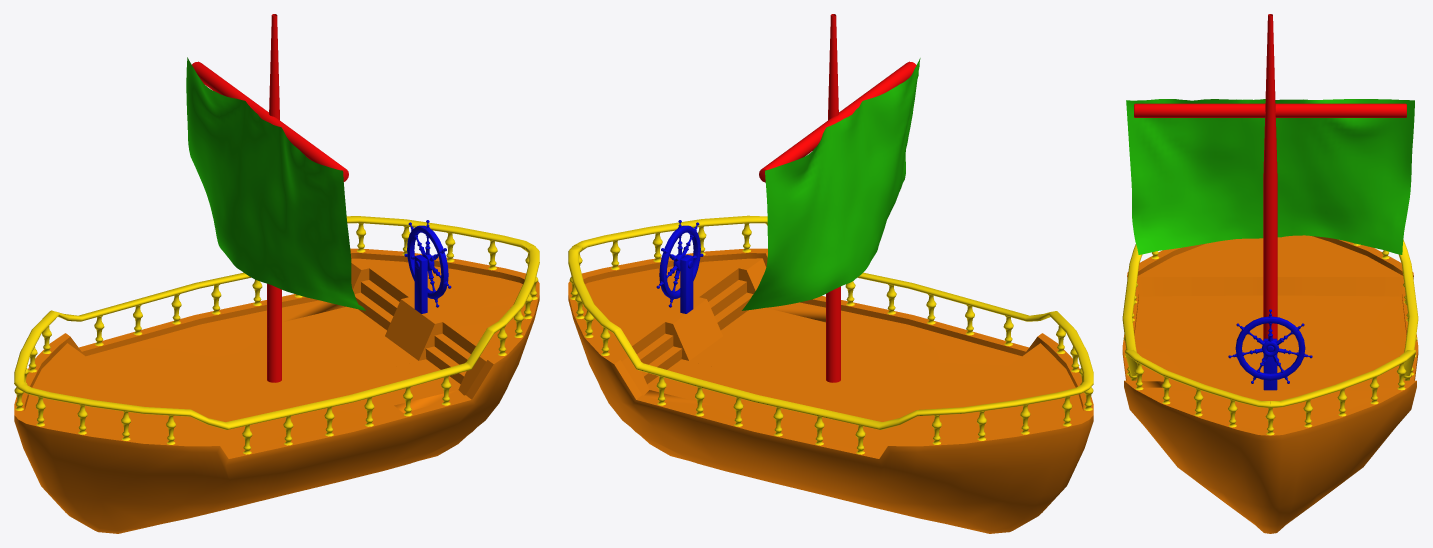
The model's file is Boot.fbx.
The picture shows the model from 3 angles, left to right: view 1: azimuth 30°, elevation 25°; view 2: azimuth 150°, elevation 25°; view 3: azimuth 270°, elevation 25°; orthographic projection. The views are drawn at different scales.
Parts seen in each view (by area): view 1: Boat, Segel, Geländer, Mast, Lenkrad; view 2: Boat, Segel, Geländer, Mast, Lenkrad; view 3: Boat, Segel, Mast, Geländer, Lenkrad.
Boxes of the visible parts, left/top/right/bottom form: Boat: left=14, top=248, right=539, bottom=533; Segel: left=186, top=57, right=365, bottom=310; Geländer: left=14, top=216, right=539, bottom=454; Mast: left=192, top=14, right=348, bottom=382; Lenkrad: left=404, top=220, right=451, bottom=313; Boat: left=568, top=248, right=1093, bottom=533; Segel: left=742, top=58, right=920, bottom=310; Geländer: left=568, top=215, right=1093, bottom=454; Mast: left=759, top=14, right=916, bottom=382; Lenkrad: left=656, top=220, right=703, bottom=313; Boat: left=1122, top=235, right=1418, bottom=533; Segel: left=1126, top=99, right=1414, bottom=254; Mast: left=1134, top=14, right=1406, bottom=340; Geländer: left=1122, top=239, right=1418, bottom=435; Lenkrad: left=1228, top=309, right=1312, bottom=390.
Bounding box in the file's own units: 1418 × 1257 × 759.
